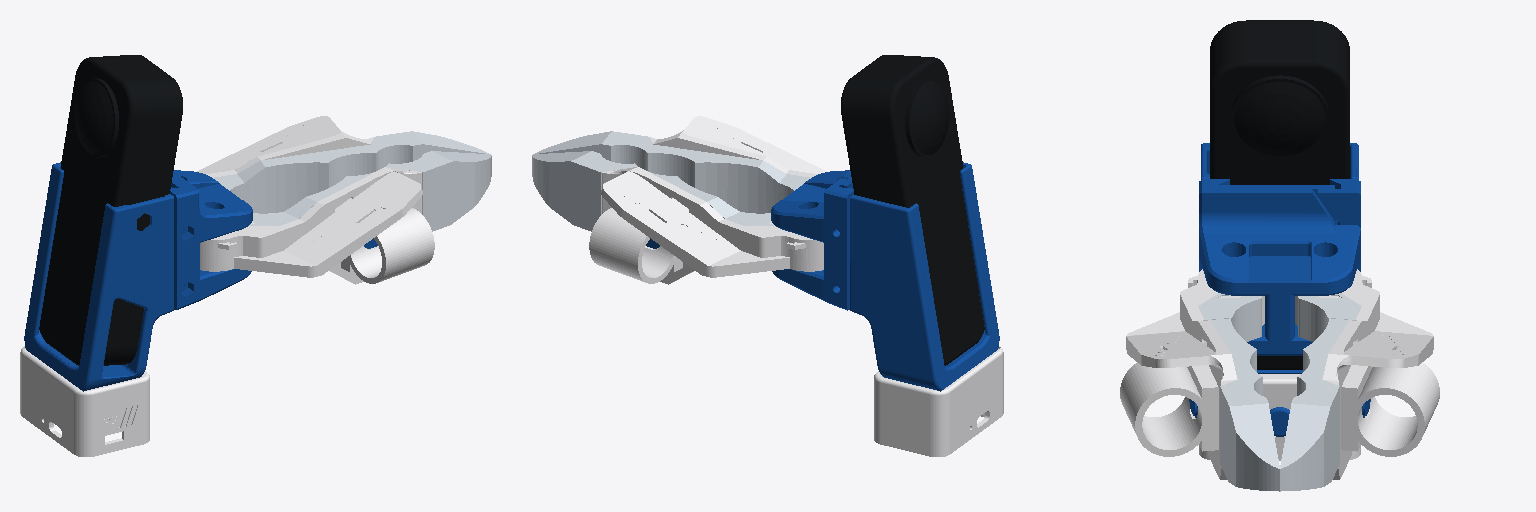
URDF robot description (pg_chopstick_data):
<?xml version="1.0"?>
<!-- PG Chopstick, generated by chopstick/cad/urdf.py. Units: m, rad. -->
<robot name="pg_chopstick_data">
  <material name="pg_blue"><color rgba="0.12 0.37 0.68 1"/></material>
  <material name="pg_white"><color rgba="0.96 0.96 0.97 1"/></material>
  <material name="tpu"><color rgba="0.87 0.9 0.93 1"/></material>
  <material name="camera"><color rgba="0.11 0.12 0.13 1"/></material>
  <link name="chopstick_base">
    <visual name="chopstick_base_dc"><origin xyz="0 0 0" rpy="0 0 0"/><geometry><mesh filename="meshes/chopstick_base_dc.stl" scale="0.001 0.001 0.001"/></geometry><material name="pg_blue"/></visual>
    <collision name="chopstick_base_dc"><origin xyz="0 0 0" rpy="0 0 0"/><geometry><mesh filename="meshes/chopstick_base_dc.stl" scale="0.001 0.001 0.001"/></geometry></collision>
    <visual name="chopstick_clip_dc"><origin xyz="0 0 0" rpy="0 0 0"/><geometry><mesh filename="meshes/chopstick_clip_dc.stl" scale="0.001 0.001 0.001"/></geometry><material name="pg_blue"/></visual>
    <collision name="chopstick_clip_dc"><origin xyz="0 0 0" rpy="0 0 0"/><geometry><mesh filename="meshes/chopstick_clip_dc.stl" scale="0.001 0.001 0.001"/></geometry></collision>
    <visual name="x5_lite_frame"><origin xyz="0 0 0" rpy="0 0 0"/><geometry><mesh filename="meshes/x5_lite_frame.stl" scale="0.001 0.001 0.001"/></geometry><material name="pg_blue"/></visual>
    <collision name="x5_lite_frame"><origin xyz="0 0 0" rpy="0 0 0"/><geometry><mesh filename="meshes/x5_lite_frame.stl" scale="0.001 0.001 0.001"/></geometry></collision>
    <visual name="pg_pod"><origin xyz="0 0 0" rpy="0 0 0"/><geometry><mesh filename="meshes/pg_pod.stl" scale="0.001 0.001 0.001"/></geometry><material name="pg_white"/></visual>
    <collision name="pg_pod"><origin xyz="0 0 0" rpy="0 0 0"/><geometry><mesh filename="meshes/pg_pod.stl" scale="0.001 0.001 0.001"/></geometry></collision>
    <visual name="pg_pod_lid"><origin xyz="0 0 0" rpy="0 0 0"/><geometry><mesh filename="meshes/pg_pod_lid.stl" scale="0.001 0.001 0.001"/></geometry><material name="pg_white"/></visual>
    <collision name="pg_pod_lid"><origin xyz="0 0 0" rpy="0 0 0"/><geometry><mesh filename="meshes/pg_pod_lid.stl" scale="0.001 0.001 0.001"/></geometry></collision>
    <visual name="pg_pod_button"><origin xyz="0 0 0" rpy="0 0 0"/><geometry><mesh filename="meshes/pg_pod_button.stl" scale="0.001 0.001 0.001"/></geometry><material name="pg_blue"/></visual>
    <collision name="pg_pod_button"><origin xyz="0 0 0" rpy="0 0 0"/><geometry><mesh filename="meshes/pg_pod_button.stl" scale="0.001 0.001 0.001"/></geometry></collision>
    <visual name="insta360_x5_envelope"><origin xyz="0 0 0" rpy="0 0 0"/><geometry><mesh filename="meshes/insta360_x5_envelope.stl" scale="0.001 0.001 0.001"/></geometry><material name="camera"/></visual>
    <collision name="insta360_x5_envelope"><origin xyz="0 0 0" rpy="0 0 0"/><geometry><mesh filename="meshes/insta360_x5_envelope.stl" scale="0.001 0.001 0.001"/></geometry></collision>
    <inertial><origin xyz="0.0303627 0.000128086 0.00876846" rpy="0 0 0"/><mass value="0.27136"/><inertia ixx="0.0004283" ixy="5.68e-07" ixz="-5.091e-05" iyy="0.0004336" iyz="1.401e-06" izz="0.0001112"/></inertial>
  </link>
  <link name="chopstick_jaw_left">
    <visual name="jaw_left_dc"><origin xyz="0 0 0" rpy="0 0 0"/><geometry><mesh filename="meshes/jaw_left_dc_jawframe.stl" scale="0.001 0.001 0.001"/></geometry><material name="pg_white"/></visual>
    <collision name="jaw_left_dc"><origin xyz="0 0 0" rpy="0 0 0"/><geometry><mesh filename="meshes/jaw_left_dc_jawframe.stl" scale="0.001 0.001 0.001"/></geometry></collision>
    <visual name="tip_tpu_left"><origin xyz="0 0 0" rpy="0 0 0"/><geometry><mesh filename="meshes/tip_tpu_left_jawframe.stl" scale="0.001 0.001 0.001"/></geometry><material name="tpu"/></visual>
    <collision name="tip_tpu_left"><origin xyz="0 0 0" rpy="0 0 0"/><geometry><mesh filename="meshes/tip_tpu_left_jawframe.stl" scale="0.001 0.001 0.001"/></geometry></collision>
    <visual name="sleeve_button_cover_left"><origin xyz="0 0 0" rpy="0 0 0"/><geometry><mesh filename="meshes/sleeve_button_cover_left_jawframe.stl" scale="0.001 0.001 0.001"/></geometry><material name="pg_blue"/></visual>
    <collision name="sleeve_button_cover_left"><origin xyz="0 0 0" rpy="0 0 0"/><geometry><mesh filename="meshes/sleeve_button_cover_left_jawframe.stl" scale="0.001 0.001 0.001"/></geometry></collision>
    <inertial><origin xyz="0.0651406 0.00339561 -0.00351641" rpy="0 0 0"/><mass value="0.053445"/><inertia ixx="8.595e-06" ixy="7.237e-06" ixz="1.214e-06" iyy="6.938e-05" iyz="1.496e-08" izz="7.132e-05"/></inertial>
  </link>
  <link name="chopstick_tip_left"/>
  <link name="chopstick_jaw_right">
    <visual name="jaw_right_dc"><origin xyz="0 0 0" rpy="0 0 0"/><geometry><mesh filename="meshes/jaw_right_dc_jawframe.stl" scale="0.001 0.001 0.001"/></geometry><material name="pg_white"/></visual>
    <collision name="jaw_right_dc"><origin xyz="0 0 0" rpy="0 0 0"/><geometry><mesh filename="meshes/jaw_right_dc_jawframe.stl" scale="0.001 0.001 0.001"/></geometry></collision>
    <visual name="tip_tpu_right"><origin xyz="0 0 0" rpy="0 0 0"/><geometry><mesh filename="meshes/tip_tpu_right_jawframe.stl" scale="0.001 0.001 0.001"/></geometry><material name="tpu"/></visual>
    <collision name="tip_tpu_right"><origin xyz="0 0 0" rpy="0 0 0"/><geometry><mesh filename="meshes/tip_tpu_right_jawframe.stl" scale="0.001 0.001 0.001"/></geometry></collision>
    <visual name="sleeve_button_cover_right"><origin xyz="0 0 0" rpy="0 0 0"/><geometry><mesh filename="meshes/sleeve_button_cover_right_jawframe.stl" scale="0.001 0.001 0.001"/></geometry><material name="pg_blue"/></visual>
    <collision name="sleeve_button_cover_right"><origin xyz="0 0 0" rpy="0 0 0"/><geometry><mesh filename="meshes/sleeve_button_cover_right_jawframe.stl" scale="0.001 0.001 0.001"/></geometry></collision>
    <inertial><origin xyz="0.0651264 -0.00336746 -0.00353144" rpy="0 0 0"/><mass value="0.05338"/><inertia ixx="8.555e-06" ixy="-7.208e-06" ixz="1.211e-06" iyy="6.949e-05" iyz="-2.727e-08" izz="7.141e-05"/></inertial>
  </link>
  <link name="chopstick_tip_right"/>
  <link name="chopstick_camera"/>
  <link name="chopstick_tcp"/>
  <joint name="chopstick_jaw" type="revolute">
    <parent link="chopstick_base"/><child link="chopstick_jaw_left"/>
    <origin xyz="0.06733 0.015 0" rpy="0 0 0"/><axis xyz="0 0 1"/>
    <limit lower="0.00000" upper="1.25664" effort="4" velocity="6"/>
  </joint>
  <joint name="chopstick_tip_left_joint" type="fixed"><parent link="chopstick_jaw_left"/><child link="chopstick_tip_left"/><origin xyz="0.137417 -0.015085 -0.003671" rpy="0 0 0"/></joint>
  <joint name="chopstick_jaw_right" type="revolute">
    <parent link="chopstick_base"/><child link="chopstick_jaw_right"/>
    <origin xyz="0.06733 -0.015 0" rpy="0 0 0"/><axis xyz="0 0 1"/>
    <limit lower="-1.25664" upper="0.00000" effort="4" velocity="6"/>
    <mimic joint="chopstick_jaw" multiplier="-1" offset="0"/>
  </joint>
  <joint name="chopstick_tip_right_joint" type="fixed"><parent link="chopstick_jaw_right"/><child link="chopstick_tip_right"/><origin xyz="0.137417 0.015085 -0.003671" rpy="0 0 0"/></joint>
  <joint name="chopstick_camera_joint" type="fixed"><parent link="chopstick_base"/><child link="chopstick_camera"/><origin xyz="0.034420877 0 0.057" rpy="0 0.174532726 0"/></joint>
  <joint name="chopstick_tcp_joint" type="fixed"><parent link="chopstick_base"/><child link="chopstick_tcp"/><origin xyz="0.204747 0 -0.003671" rpy="0 0 0"/></joint>
</robot>

--- What the picture shows (computed from the rendered views, not written in the file) ---
3 views of the same robot in one strip: view 1: azimuth 30°, elevation 25°; view 2: azimuth 150°, elevation 25°; view 3: azimuth 270°, elevation 25° (orthographic).
Model pg_chopstick_data with 7 links and 6 joints (2 revolute, 4 fixed), rooted at chopstick_base, posed every joint at zero.
Visible links, largest first — view 1: chopstick_base, chopstick_jaw_right, chopstick_jaw_left; view 2: chopstick_base, chopstick_jaw_left, chopstick_jaw_right; view 3: chopstick_base, chopstick_jaw_left, chopstick_jaw_right.
Boxes of the visible links, x1,y1,x2,y2 form: chopstick_base: (20, 55, 252, 456); chopstick_jaw_right: (200, 151, 491, 284); chopstick_jaw_left: (197, 116, 488, 213); chopstick_base: (771, 55, 1003, 456); chopstick_jaw_left: (532, 151, 823, 284); chopstick_jaw_right: (535, 116, 826, 213); chopstick_base: (1199, 20, 1360, 460); chopstick_jaw_left: (1280, 269, 1439, 491); chopstick_jaw_right: (1120, 269, 1279, 491).
Bounding box of the posed robot: 0.2064 × 0.1049 × 0.1563 m (x, y, z).
Meshes: 13 distinct files referenced, 12 mesh visuals loaded (12 binary STL); not drawn: 1 (reference not matched to a file when rendering).
